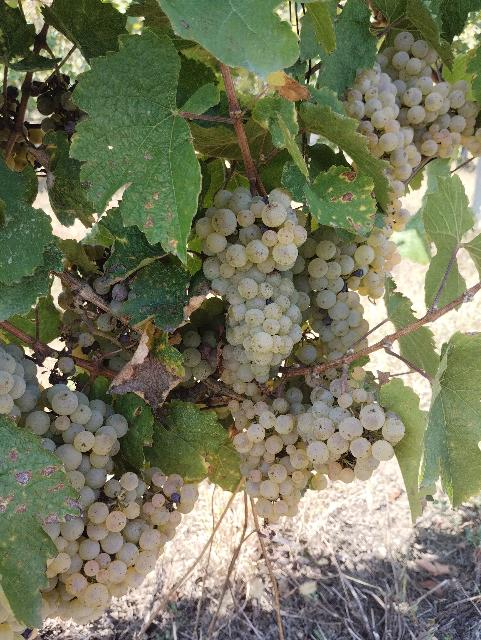grapes: (195, 188, 308, 398), (40, 384, 129, 510), (298, 386, 406, 482), (230, 398, 309, 521)
